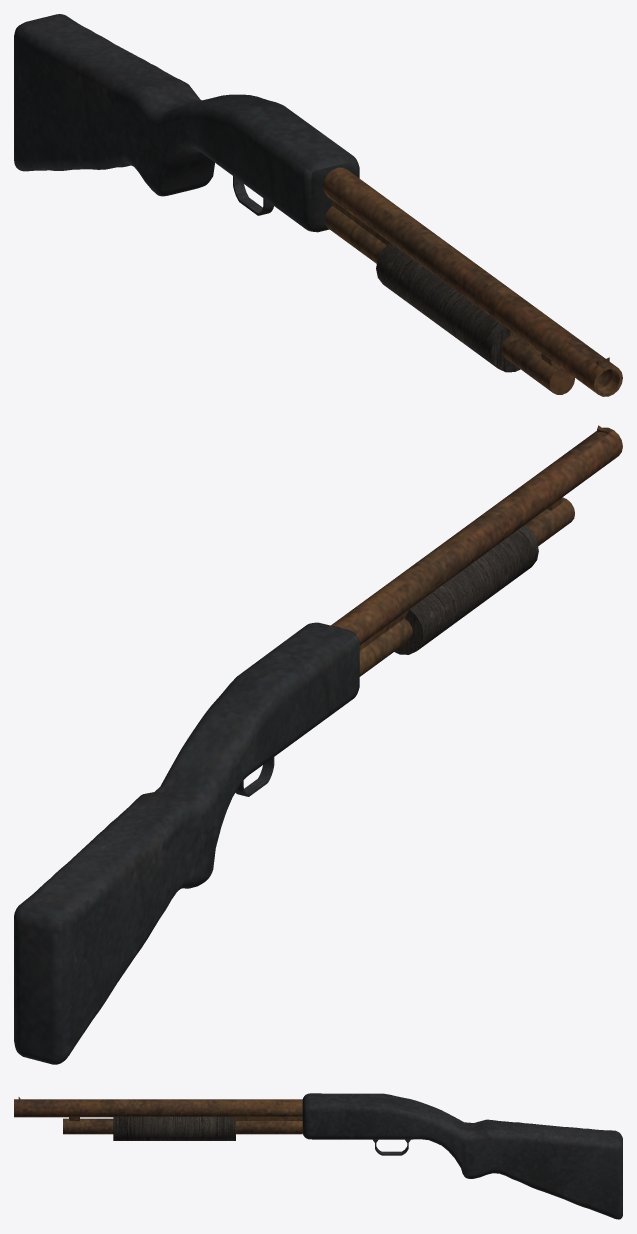
File: Shotgun.fbx
The picture shows the model from 3 angles, top to bottom: view 1: azimuth 30°, elevation 25°; view 2: azimuth 150°, elevation 25°; view 3: azimuth 270°, elevation 25°; orthographic projection. The views are drawn at different scales.
Visible parts, largest first — view 1: Handle, Barell, Pump, Trigger; view 2: Handle, Barell, Pump; view 3: Handle, Barell, Pump, Trigger.
Part boxes in pixels (<box>): Handle: <box>14,14,359,232</box>; Barell: <box>323,167,622,396</box>; Pump: <box>376,242,520,372</box>; Trigger: <box>233,176,273,215</box>; Handle: <box>14,622,359,1064</box>; Barell: <box>331,425,622,676</box>; Pump: <box>394,525,538,654</box>; Handle: <box>302,1093,622,1219</box>; Barell: <box>14,1097,302,1134</box>; Pump: <box>113,1117,235,1140</box>; Trigger: <box>373,1139,410,1155</box>.
Bounding box in the file's own units: 22.65 × 86.5 × 406.
Materials: 3 (3 with a texture image).
